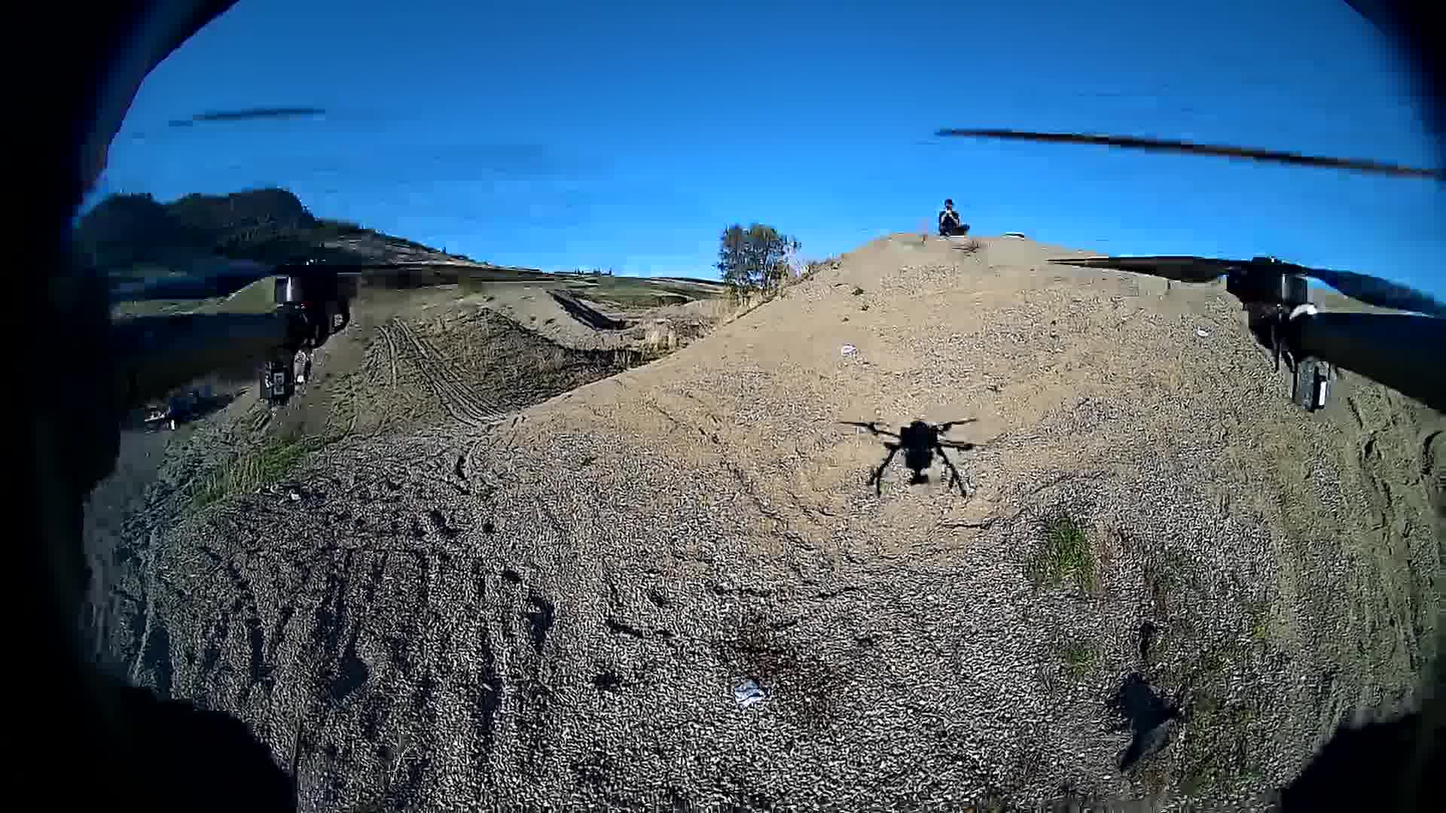Target: (731, 678, 761, 703)
